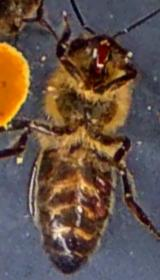varroa_mite: (88, 165, 118, 202)
